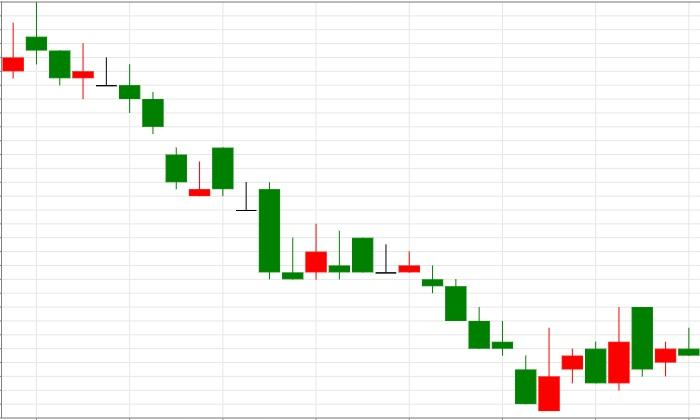bullish_engulfing_rise: (211, 147, 561, 412)
